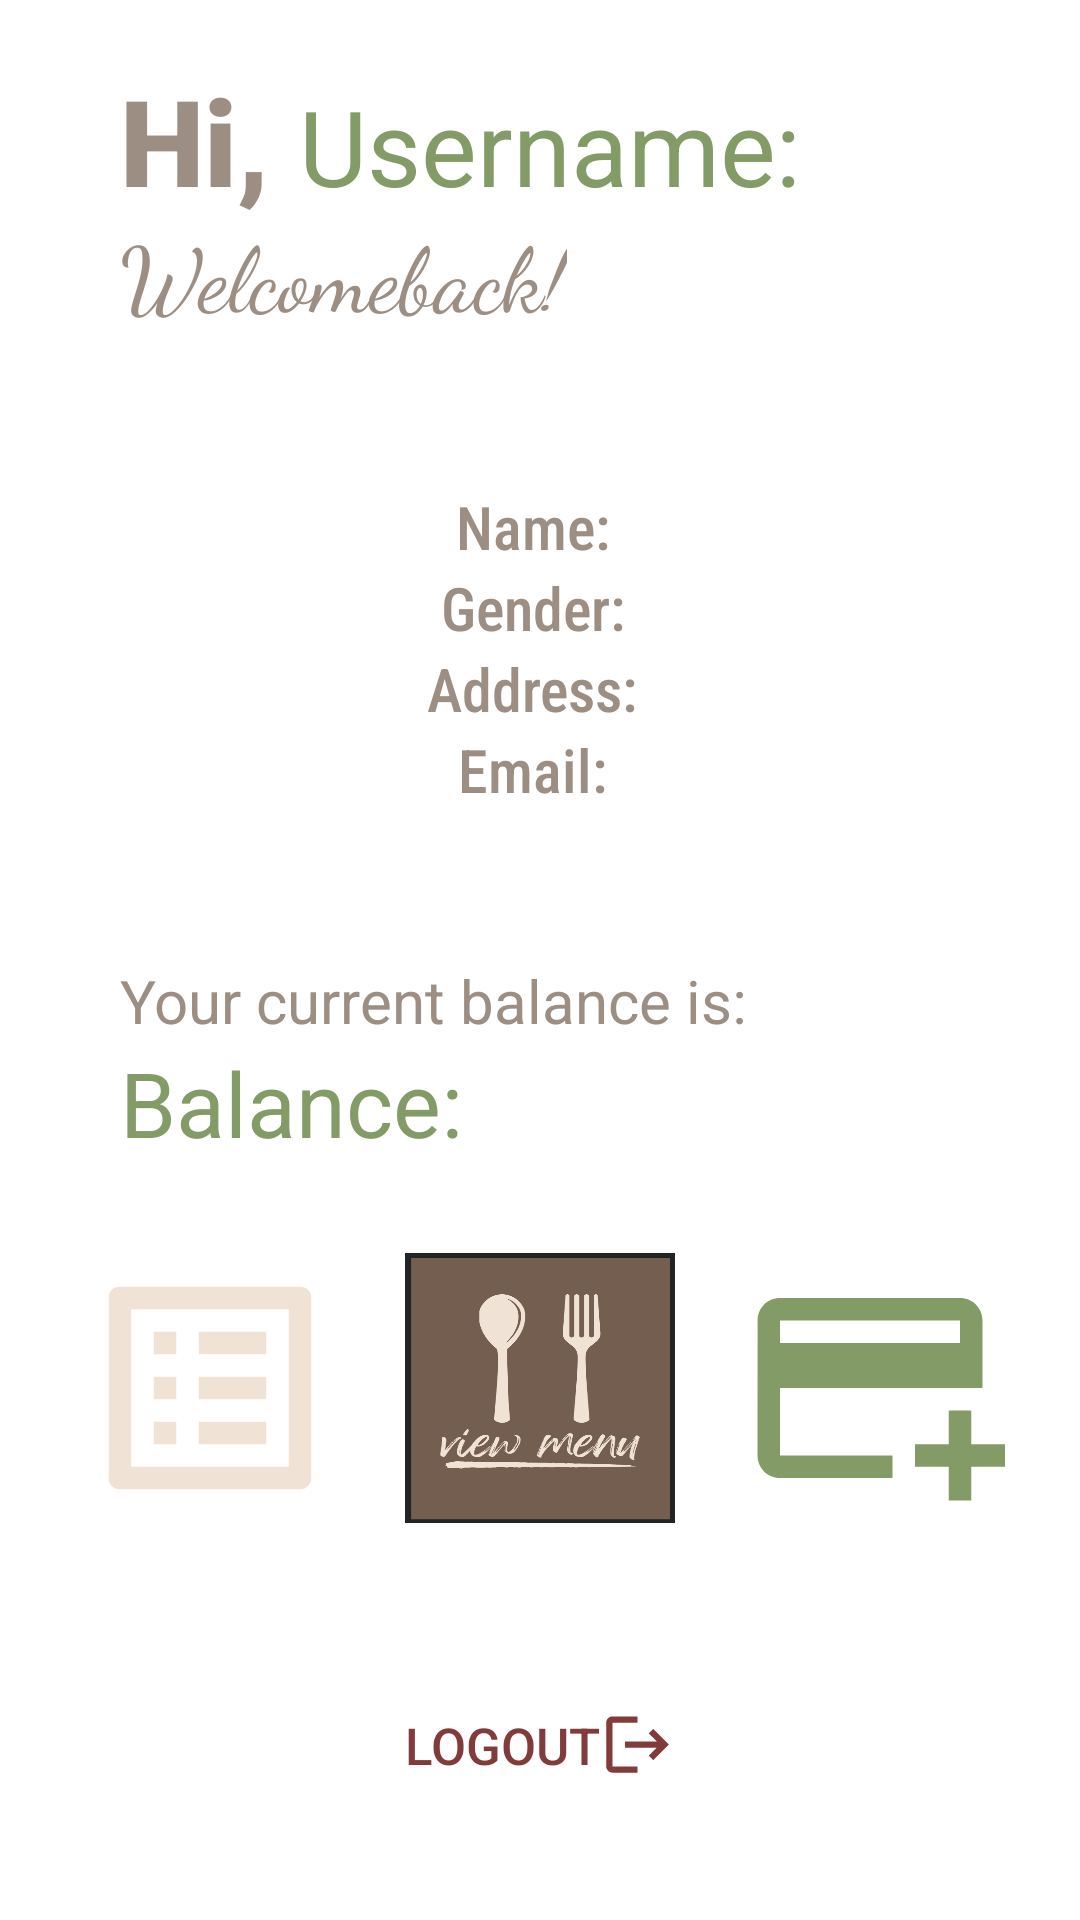

Named icons in this screenshot (1080px x 1920px) and their bounding boxes, BBox(x1, y1, x2, y2):
view orders: BBox(109, 1287, 311, 1489)
viewtopup: BBox(757, 1298, 1005, 1501)
